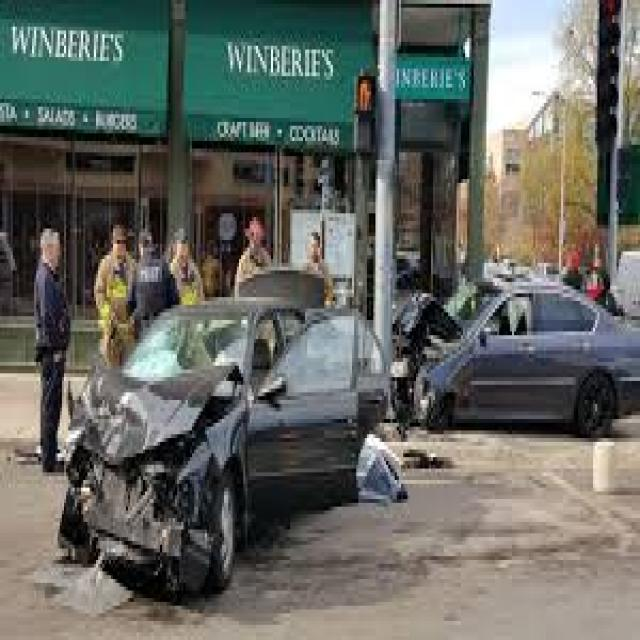accident: (67, 279, 358, 599), (394, 266, 631, 447)
